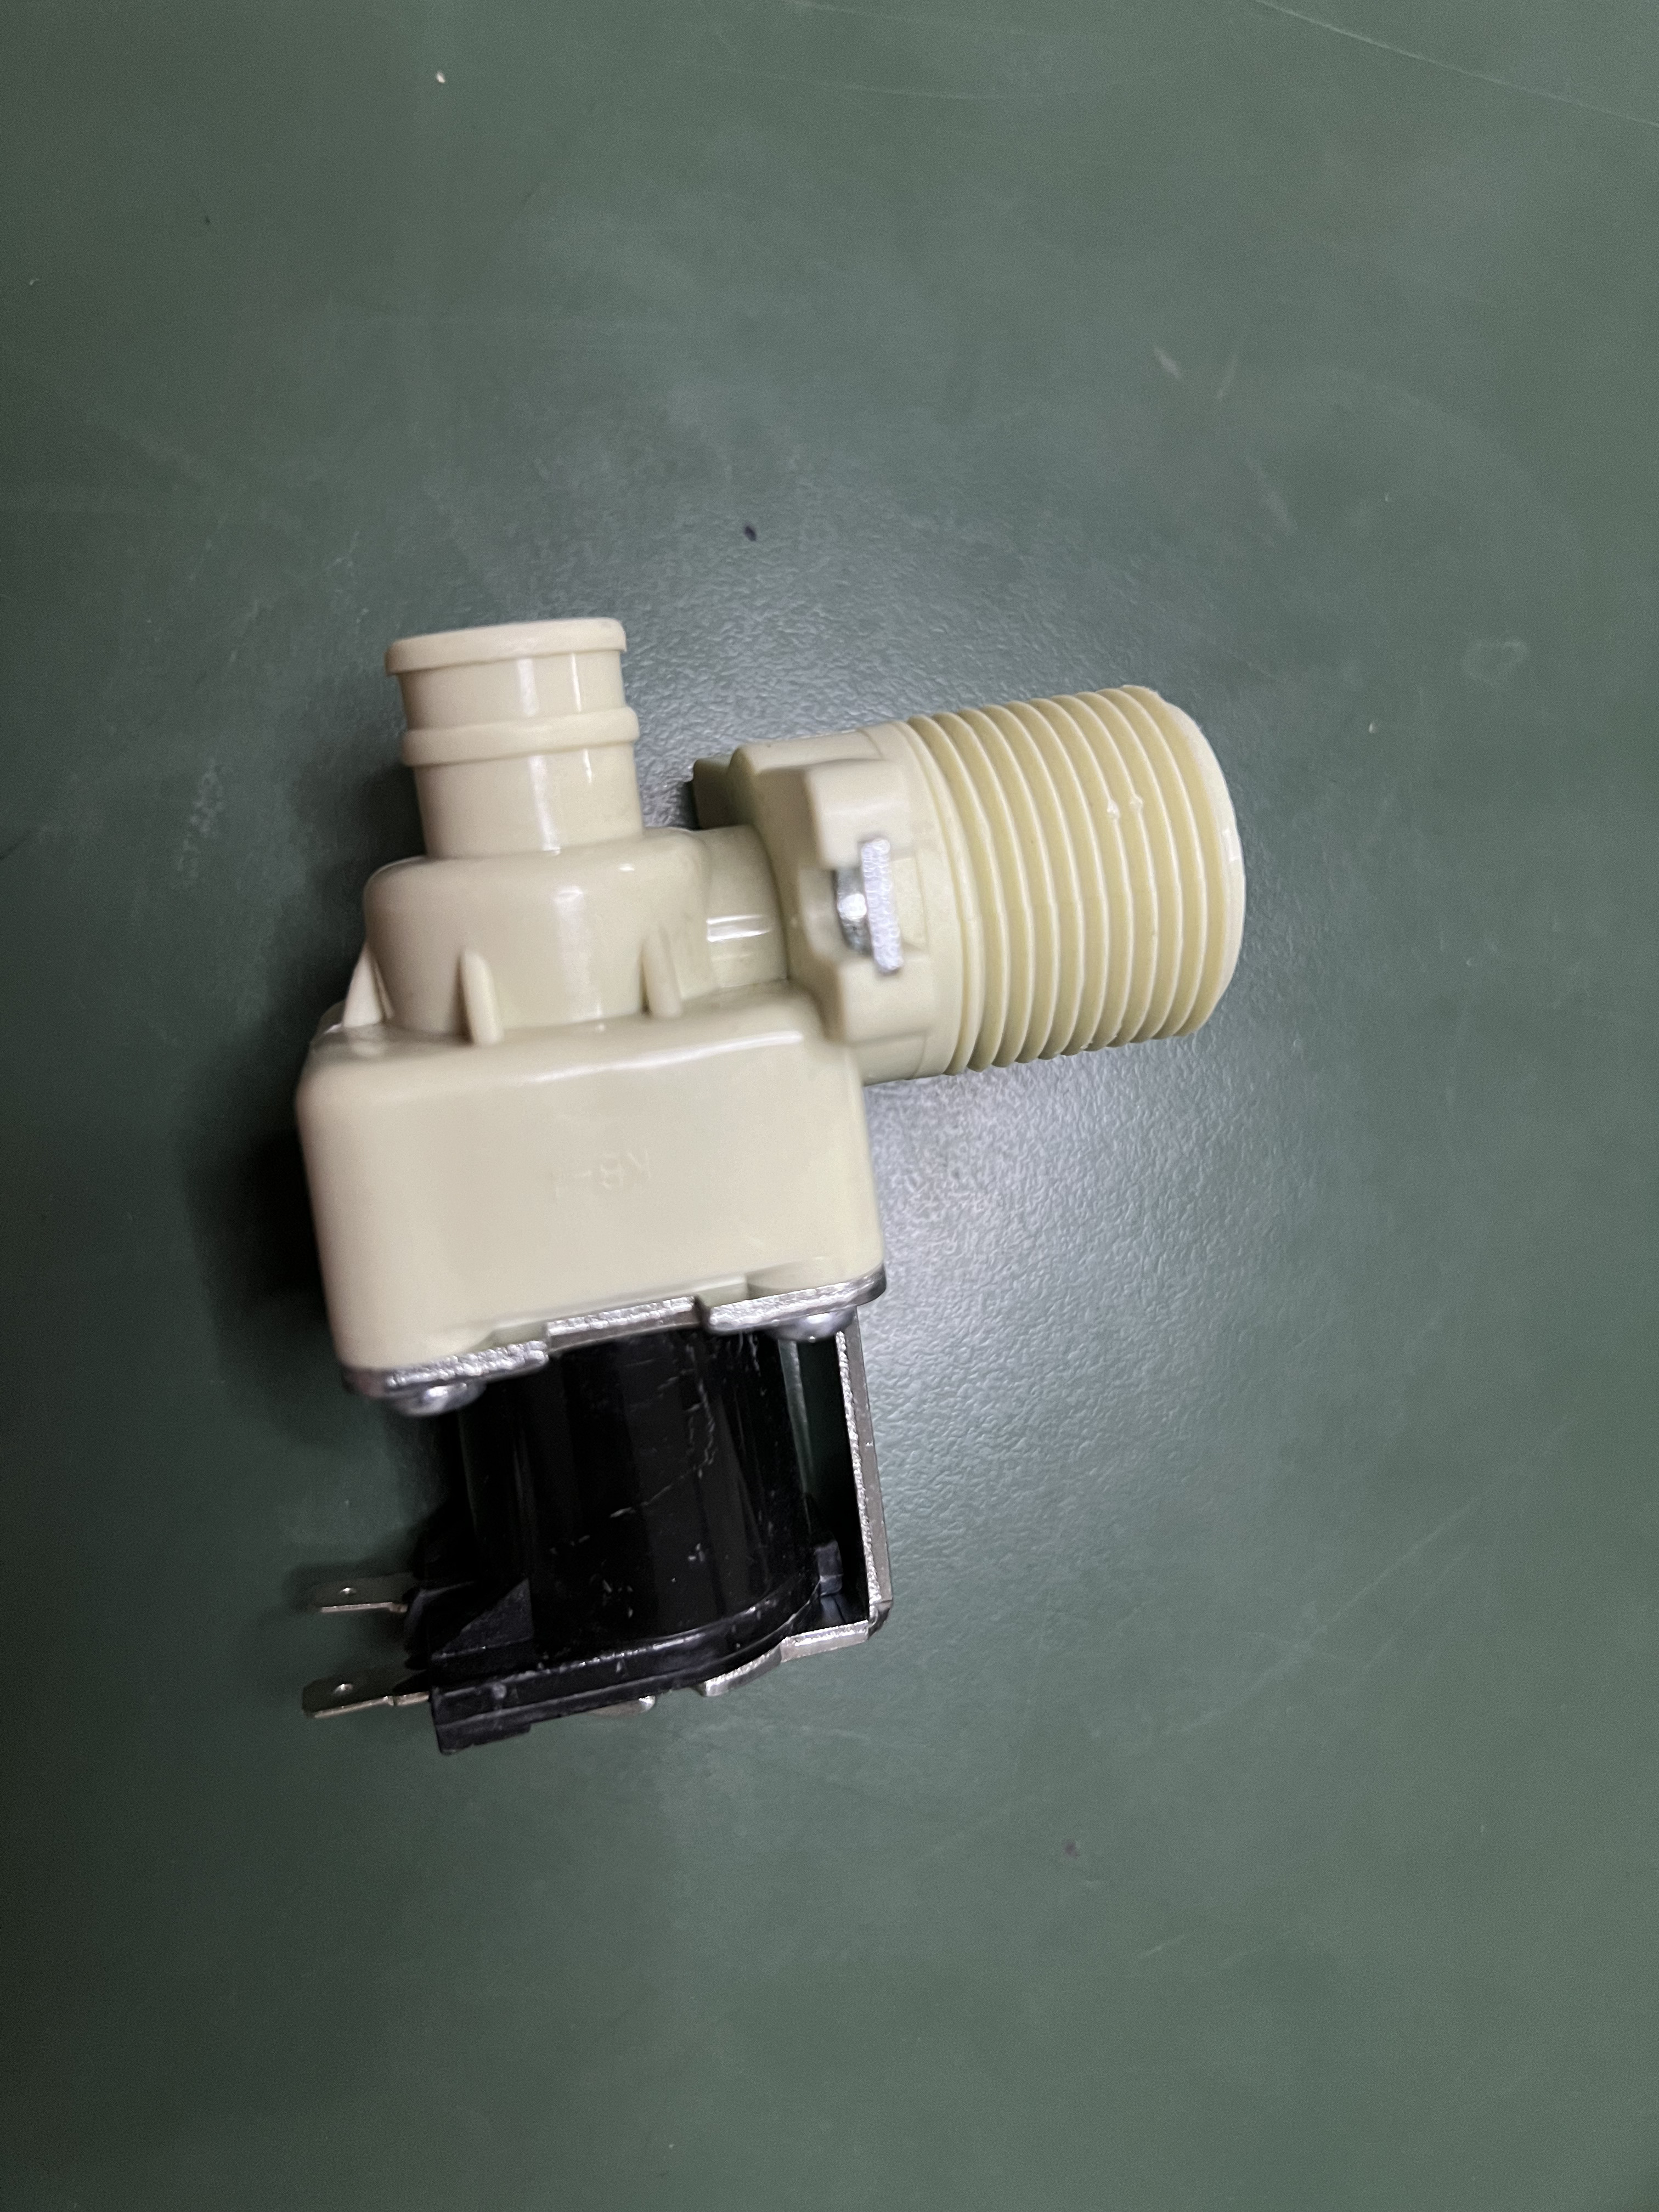godrej_inlet_valves: (235, 611, 1265, 1796)
